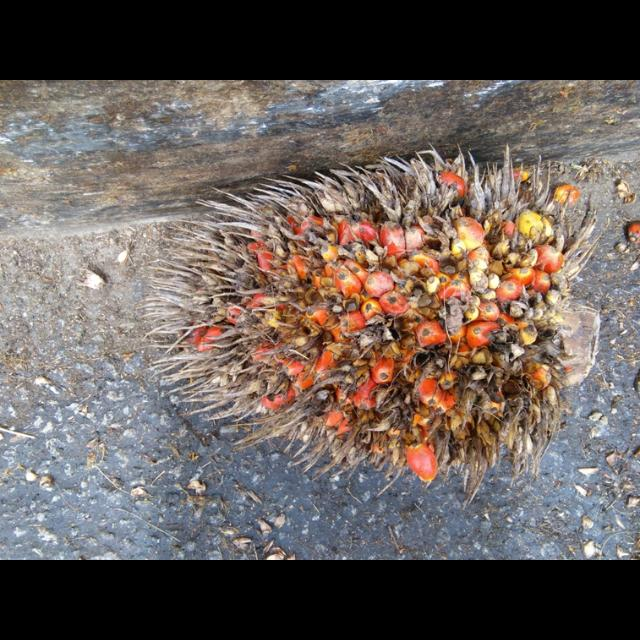Overripe: (156, 152, 576, 485)
